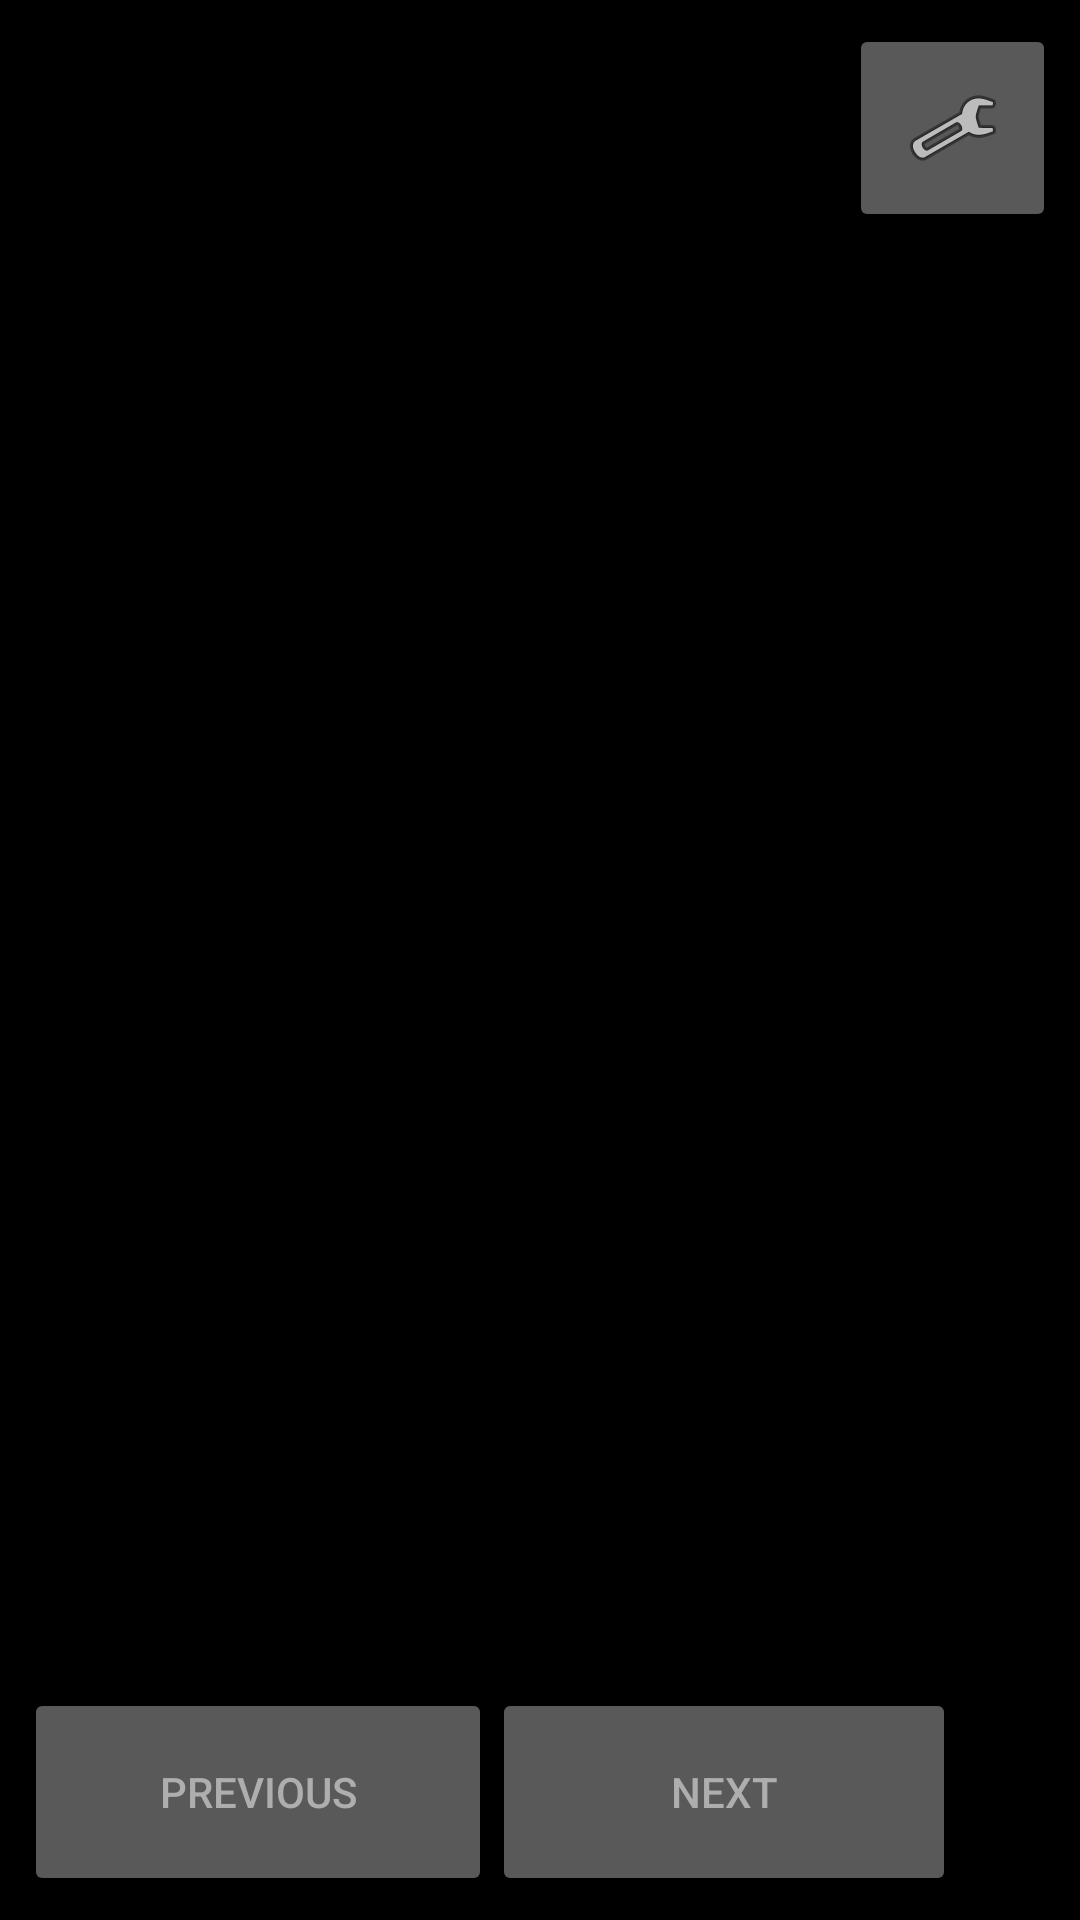

Icon click points for this 1080x1920 phone screenshot, format (x=x, y=y):
manage: (x=952, y=128)
